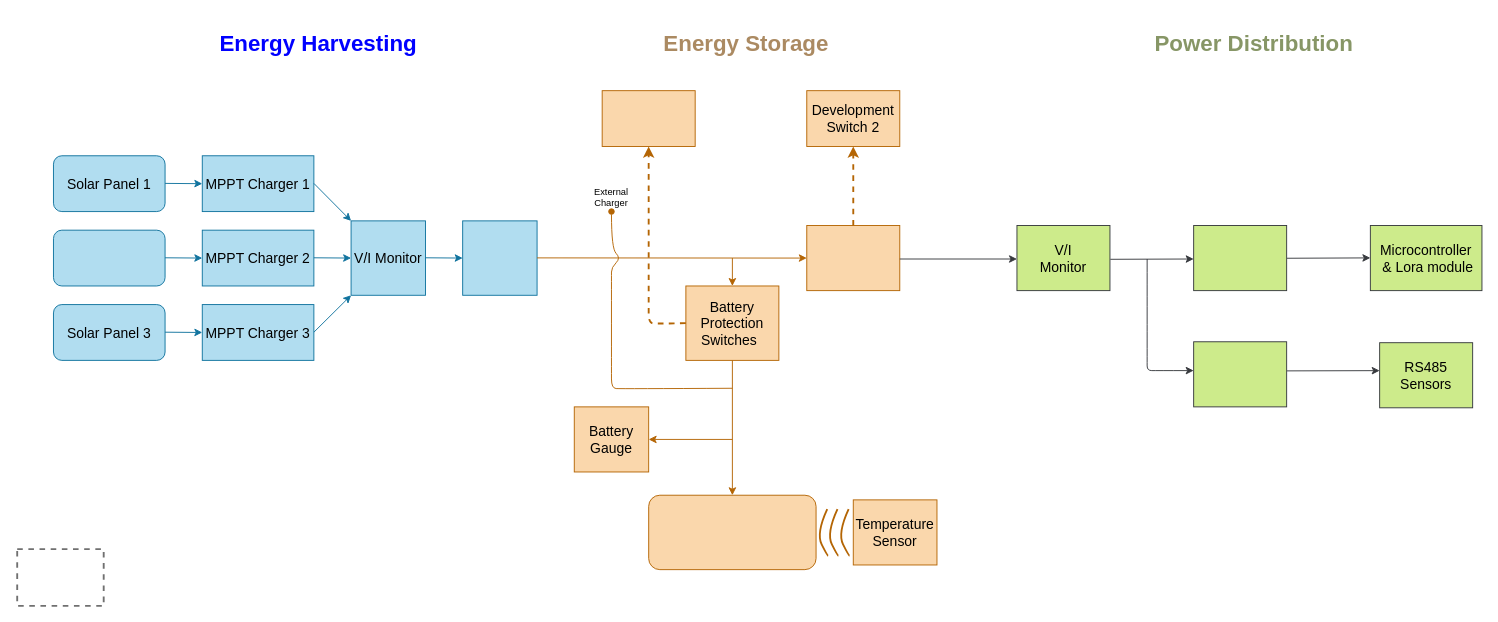
Some shapes in this 1498 by 622 pixel diagram are drawn without their labels. The shapes that lost their labels are listed below. From the top down, each one's centre as x and y in pixels, then its label:
At pixel 648 118: "Development Switch 1".
At pixel 109 257: "Solar Panel 2".
At pixel 499 257: "Ideal Diode".
At pixel 853 258: "Load Switch".
At pixel 1240 258: "3V3 Regulator".
At pixel 1240 374: "12V Regulator".
At pixel 732 532: "Li-on Cell 4000mah".
